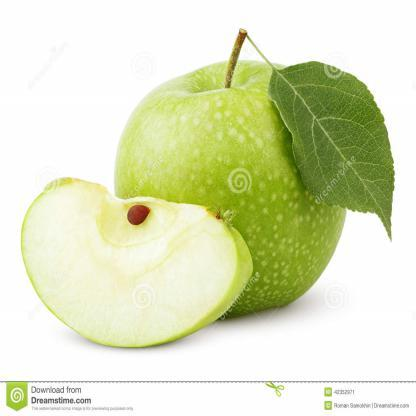Apple leaf: (262, 56, 402, 246)
